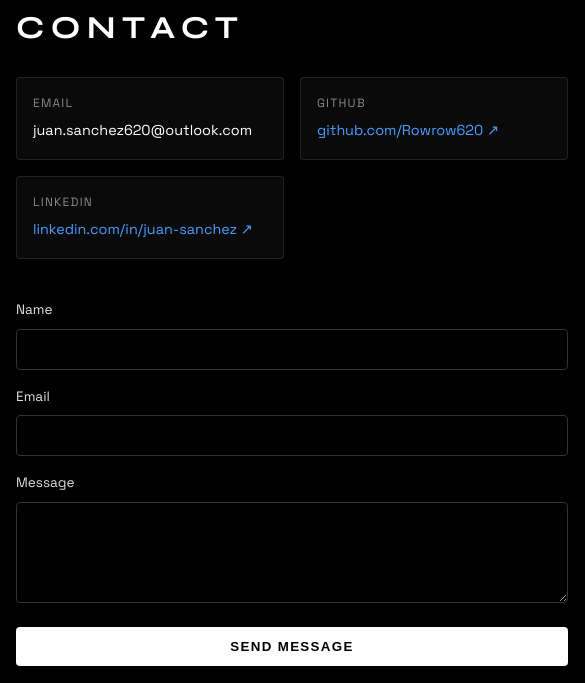
Personal Portfolio Page Regression Tests › ContactPage › renders contact cards and submits form
Expected: the link "juan.sanchez620@outlook.com" is shown, [33,121,252,139]
Expected: the link "github.com/Rowrow620 ↗" is shown, [317,121,499,139]
Type "Recruiter" into the field labelled "Name" at (292, 349), box [16,328,568,370]
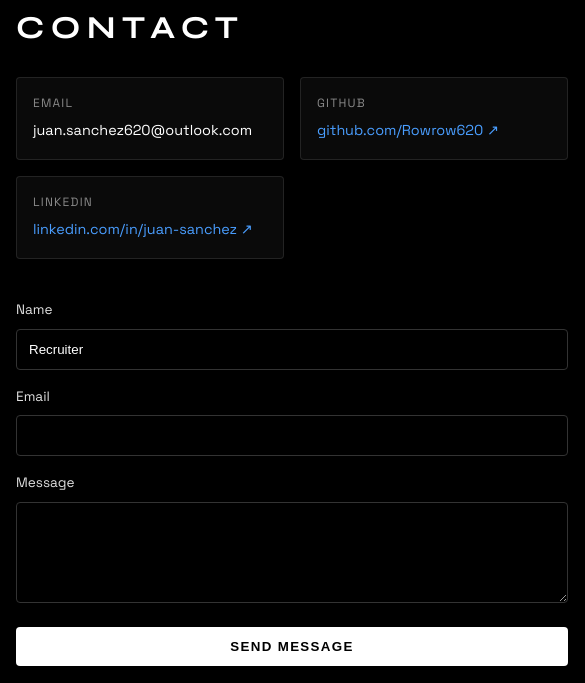
Type "recruiter@tech.com" into the field labelled "Email" at (292, 436), box [16,415,568,456]
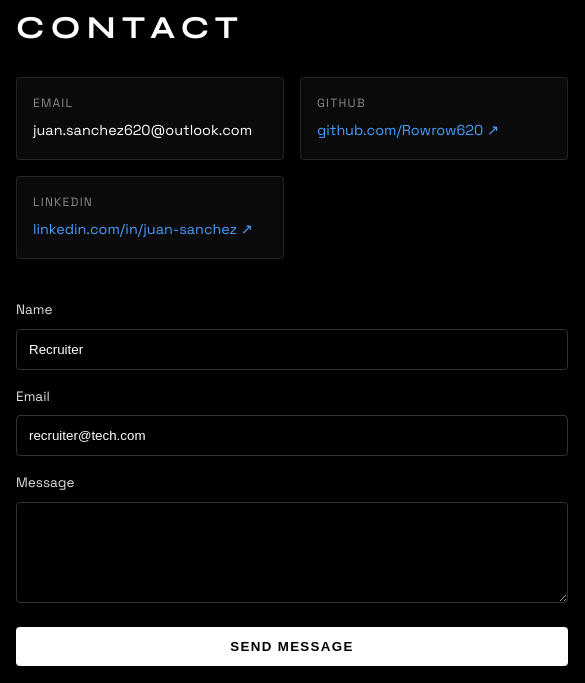
Type "Love your compilers project!" into the text box labelled "Message" at (292, 552), box [16,502,568,603]
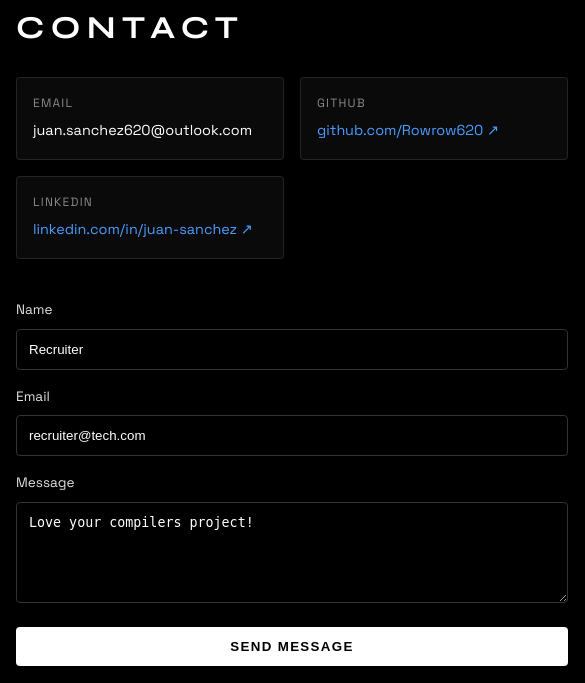
Click the button "Send Message" at (292, 646), box [16,627,568,666]
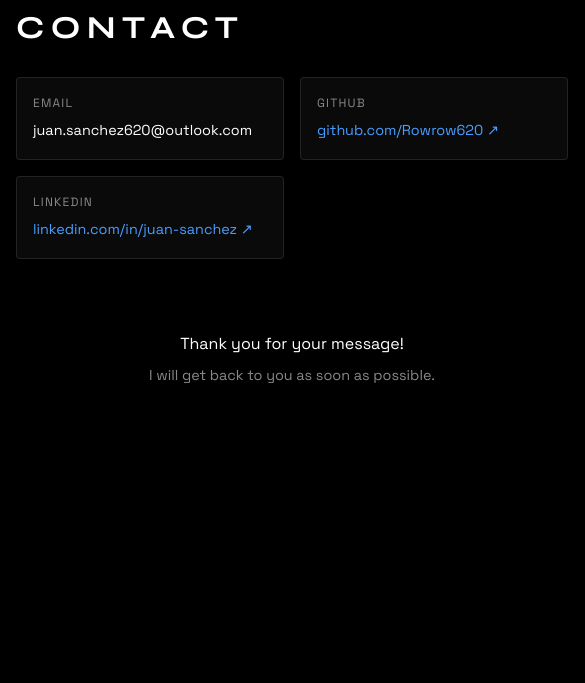
Expected: the text "Thank you for your message!" is shown, [180,333,404,354]
